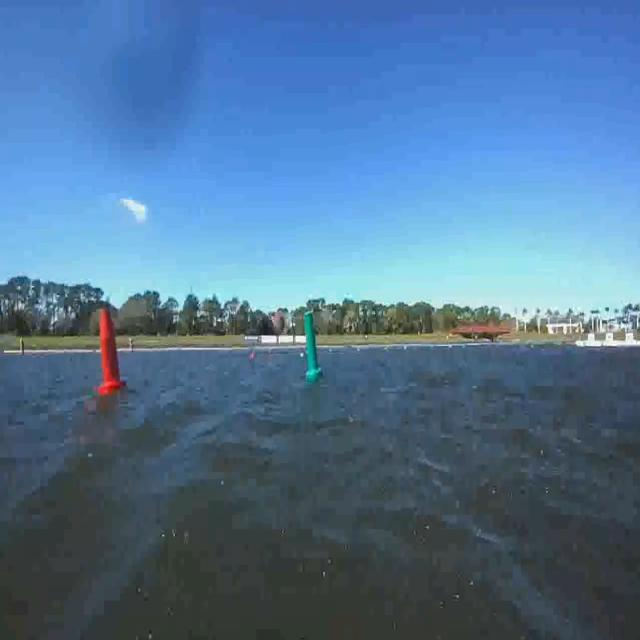green-column-buoy: (304, 311, 324, 379)
red-column-buoy: (97, 308, 124, 394)
